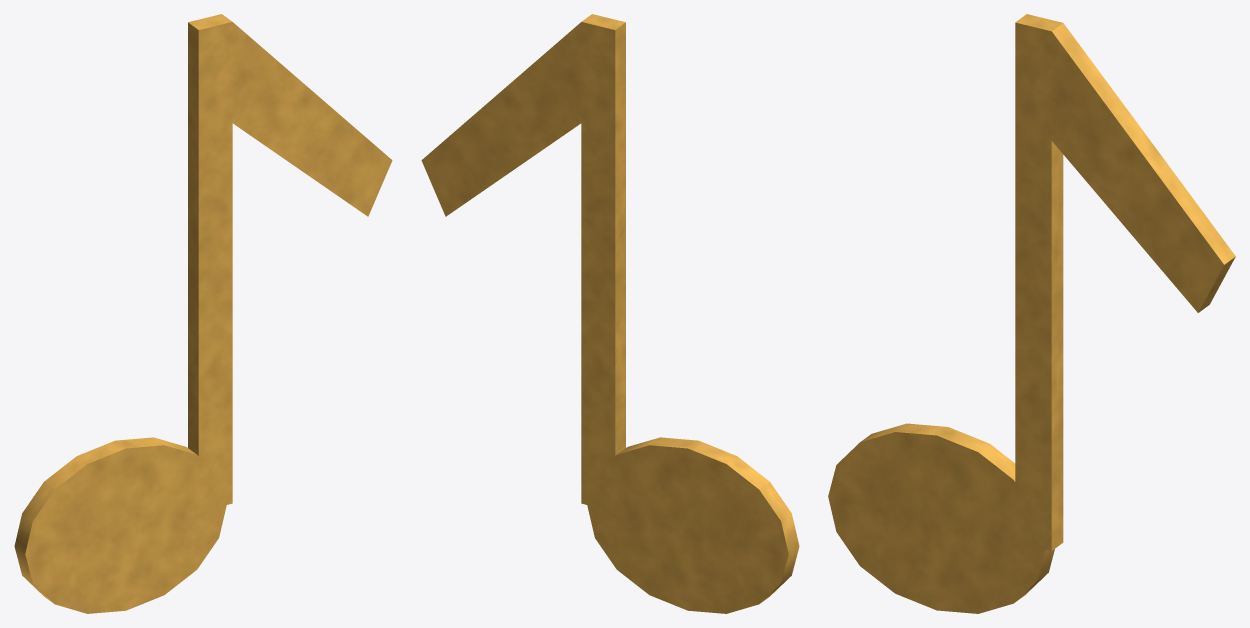
Rendered from citadel_music_note.glb.
3 views of the same model, side by side, from view 1: azimuth 30°, elevation 25°; view 2: azimuth 150°, elevation 25°; view 3: azimuth 330°, elevation 25° (orthographic). The views are drawn at different scales.
Parts seen in each view (by area): view 1: note_Citadel_Gold; view 2: note_Citadel_Gold; view 3: note_Citadel_Gold.
Part boxes in pixels (bbox=[...]): note_Citadel_Gold: bbox=[14, 14, 392, 613]; note_Citadel_Gold: bbox=[421, 14, 799, 613]; note_Citadel_Gold: bbox=[828, 14, 1235, 613].
Bounding box in the file's own units: 1.58 × 2.31 × 0.08.
1 material, 1 textured.
